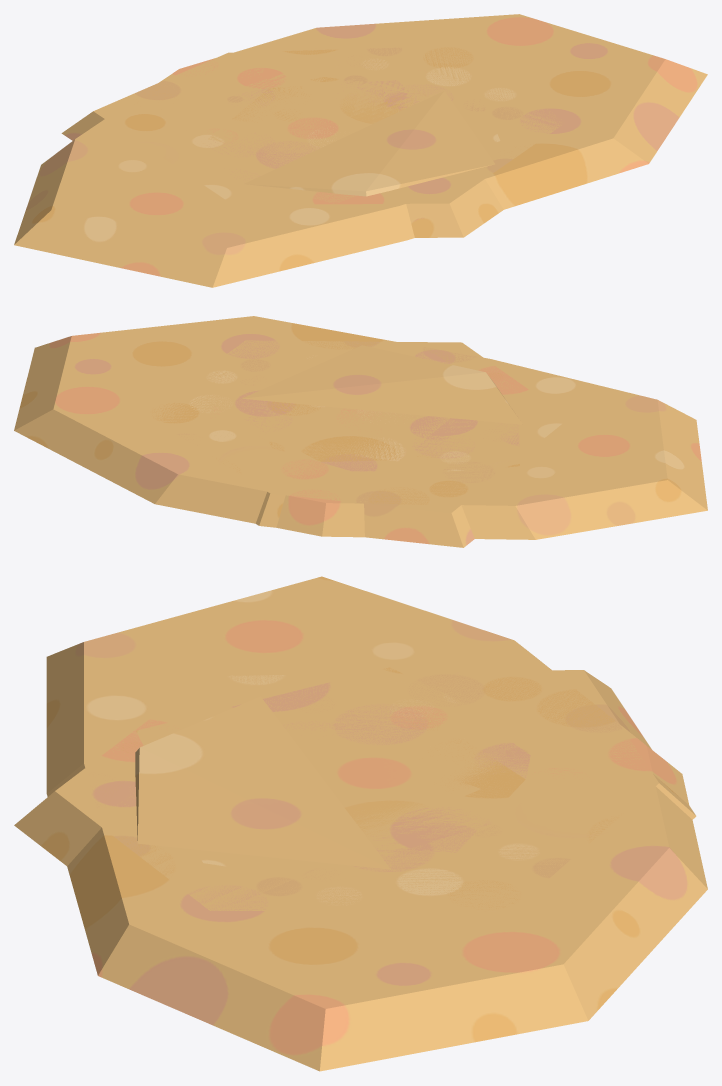
The model's file is Panel.fbx.
3 renders of one model, top to bottom at view 1: azimuth 30°, elevation 25°; view 2: azimuth 150°, elevation 25°; view 3: azimuth 270°, elevation 25°, orthographic. The views are drawn at different scales.
Visible parts, largest first — view 1: Plane.002, Plane.001, Plane.007, Plane.004, Plane.003, Plane.005, Plane.006; view 2: Plane.002, Plane.001, Plane.007, Plane.005, Plane.003, Plane.004, Plane.006; view 3: Plane.002, Plane.001, Plane.004, Plane.007, Plane.003, Plane.005, Plane.006, Plane.008.
Boxes of the visible parts, x1=… form: Plane.002: x1=14, y1=14, x2=707, y2=287; Plane.001: x1=61, y1=46, x2=561, y2=237; Plane.007: x1=244, y1=91, x2=494, y2=196; Plane.004: x1=195, y1=50, x2=500, y2=203; Plane.003: x1=198, y1=77, x2=418, y2=169; Plane.005: x1=208, y1=80, x2=411, y2=144; Plane.006: x1=341, y1=82, x2=428, y2=113; Plane.002: x1=14, y1=316, x2=707, y2=539; Plane.001: x1=144, y1=340, x2=568, y2=547; Plane.007: x1=242, y1=345, x2=522, y2=424; Plane.005: x1=245, y1=403, x2=449, y2=461; Plane.003: x1=250, y1=374, x2=478, y2=471; Plane.004: x1=208, y1=355, x2=519, y2=475; Plane.006: x1=340, y1=414, x2=449, y2=461; Plane.002: x1=46, y1=576, x2=707, y2=1071; Plane.001: x1=14, y1=670, x2=696, y2=910; Plane.004: x1=136, y1=667, x2=556, y2=879; Plane.007: x1=135, y1=696, x2=390, y2=869; Plane.003: x1=281, y1=687, x2=530, y2=876; Plane.005: x1=378, y1=712, x2=525, y2=852; Plane.006: x1=351, y1=774, x2=512, y2=856; Plane.008: x1=371, y1=781, x2=480, y2=820.
Size of the model in its own units: 47.74 by 1.83 by 28.66.
